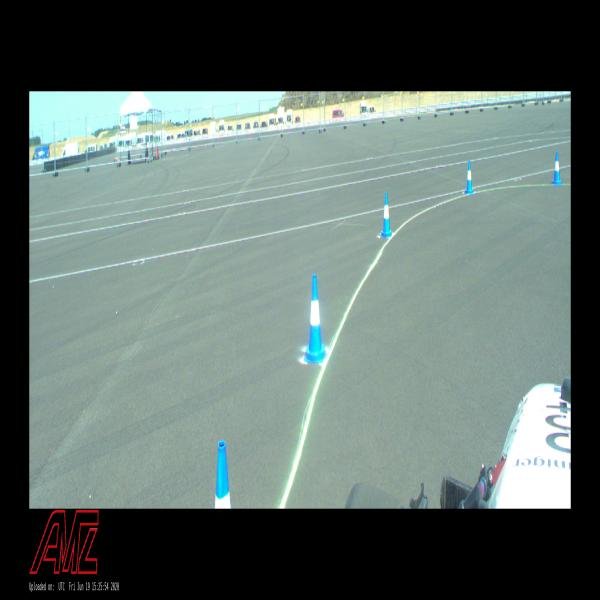blue_cone: (303, 273, 327, 364), (215, 440, 231, 508), (380, 191, 392, 238), (552, 152, 562, 186), (464, 160, 473, 194)
